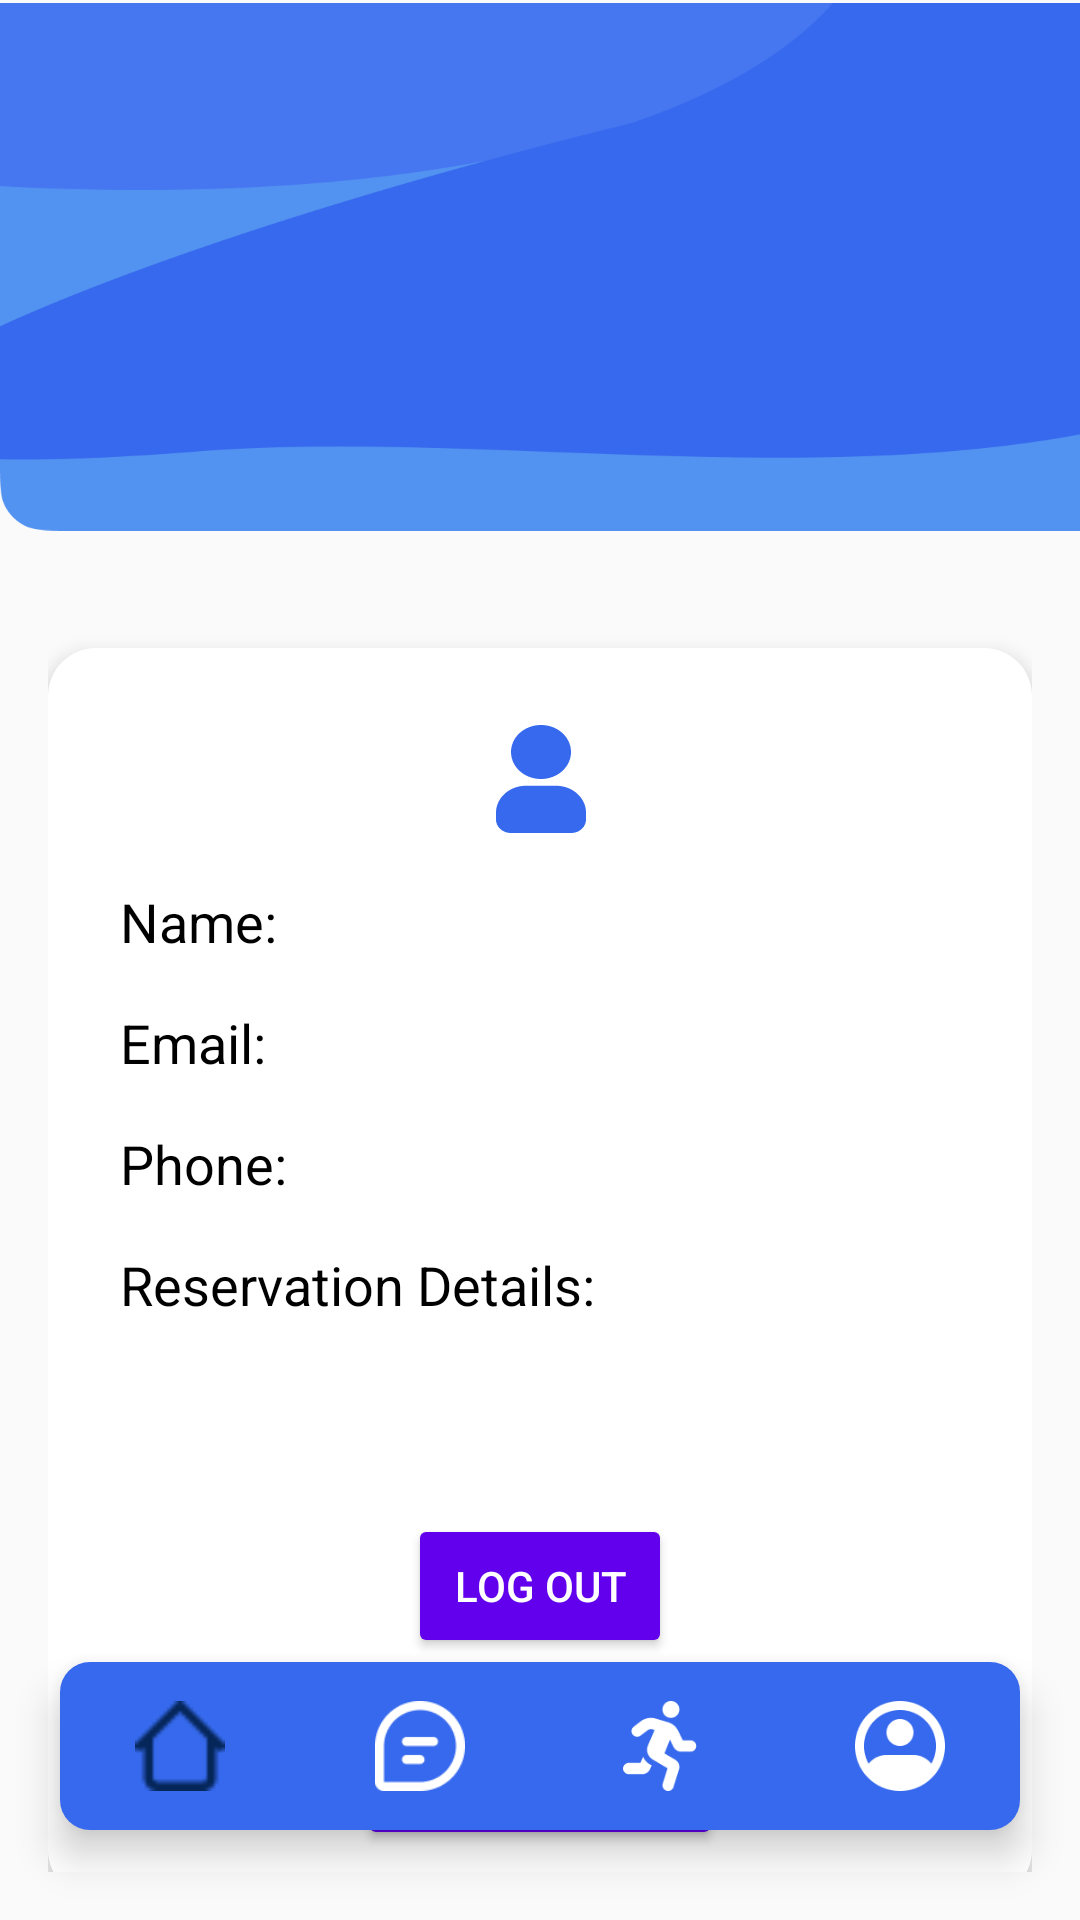

Named icons in this screenshot (1080w x 1920h) and their bounding boxes, box=[x1, y1, x2, y2]:
user: box=[496, 725, 586, 833]
